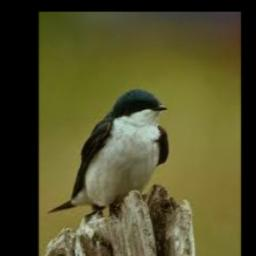Swallow: (49, 89, 168, 215)
